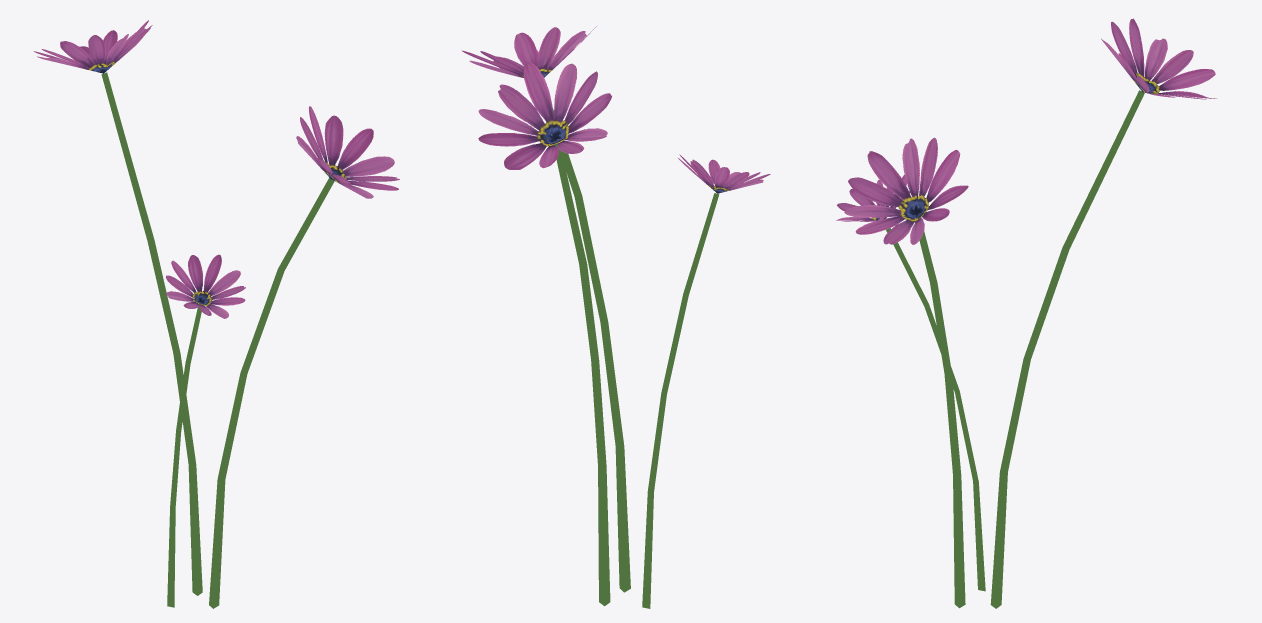
The model's file is MEADOW_SM_Flower_06_01.gltf.
3 renders of one model, left to right at view 1: azimuth 30°, elevation 25°; view 2: azimuth 150°, elevation 25°; view 3: azimuth 270°, elevation 25°, orthographic. The views are drawn at different scales.
Visible parts, largest first — view 1: SM_Flower_06_01_LOD0; view 2: SM_Flower_06_01_LOD0; view 3: SM_Flower_06_01_LOD0.
Part boxes in pixels (x1,y1,x2,y2): SM_Flower_06_01_LOD0: [33, 20, 399, 608]; SM_Flower_06_01_LOD0: [462, 26, 770, 608]; SM_Flower_06_01_LOD0: [836, 18, 1216, 608].
Size of the model in its own units: 0.3443 by 0.6343 by 0.4321.
1 material, 1 textured.
